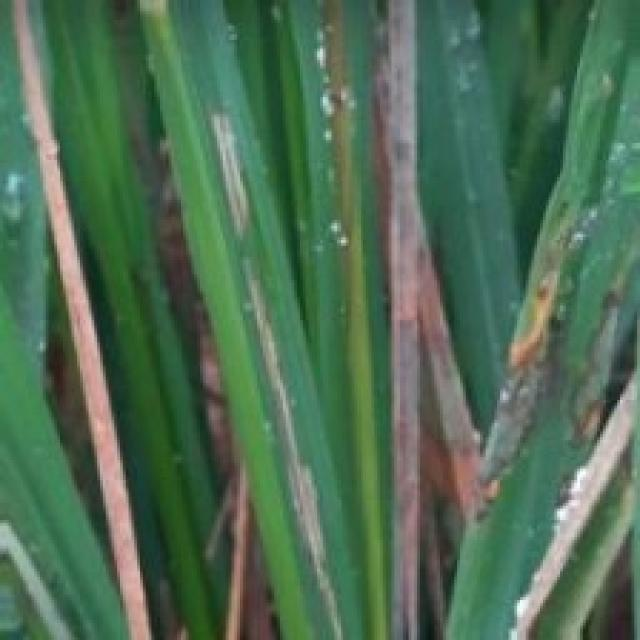Bacterial_Blight: (11, 0, 156, 640), (246, 274, 345, 640), (511, 369, 640, 640), (378, 0, 426, 640), (418, 242, 498, 528), (211, 109, 254, 233)
Brown_Spot: (474, 268, 577, 511)
